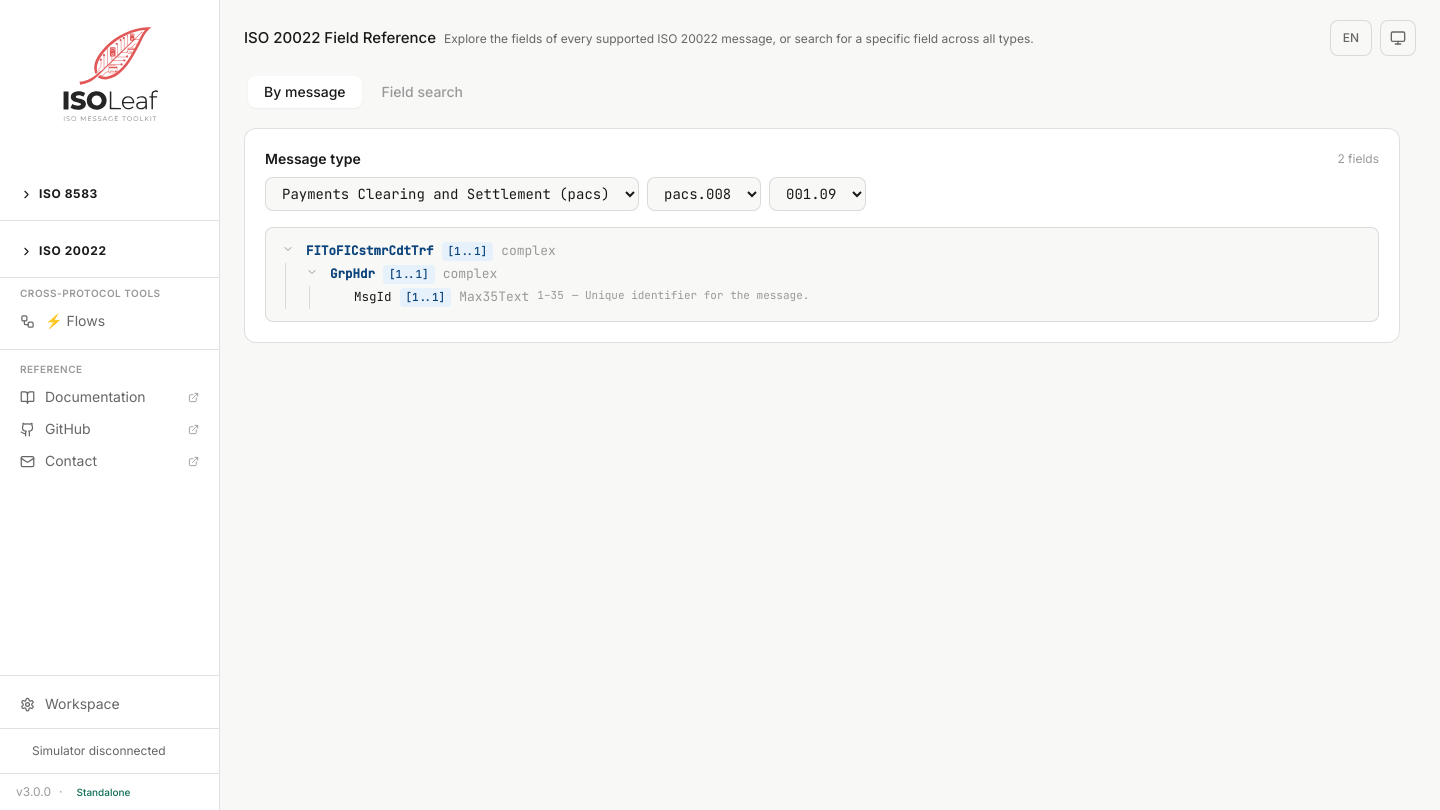
it: Iso20022ReferencePage › Search button is disabled until the user types 2+ characters
Click the button with test id "tab-search" at (422, 92), box left=366, top=76, right=479, bottom=108
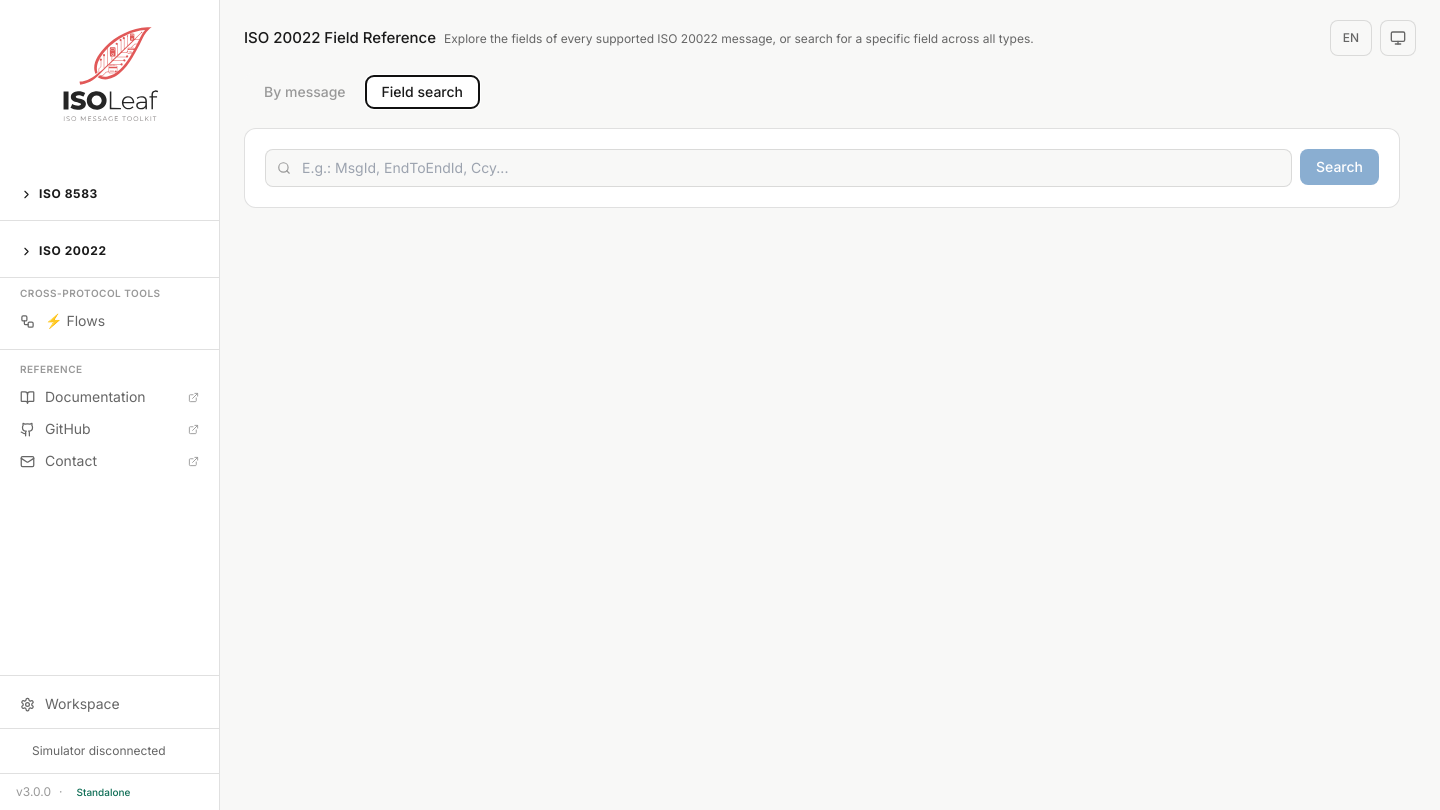
Check: the button with test id "iso20022-reference-search-button" is disabled, box left=1300, top=149, right=1379, bottom=185
Type "M" into the field with test id "iso20022-reference-search-input" at (778, 168), box left=265, top=149, right=1292, bottom=187
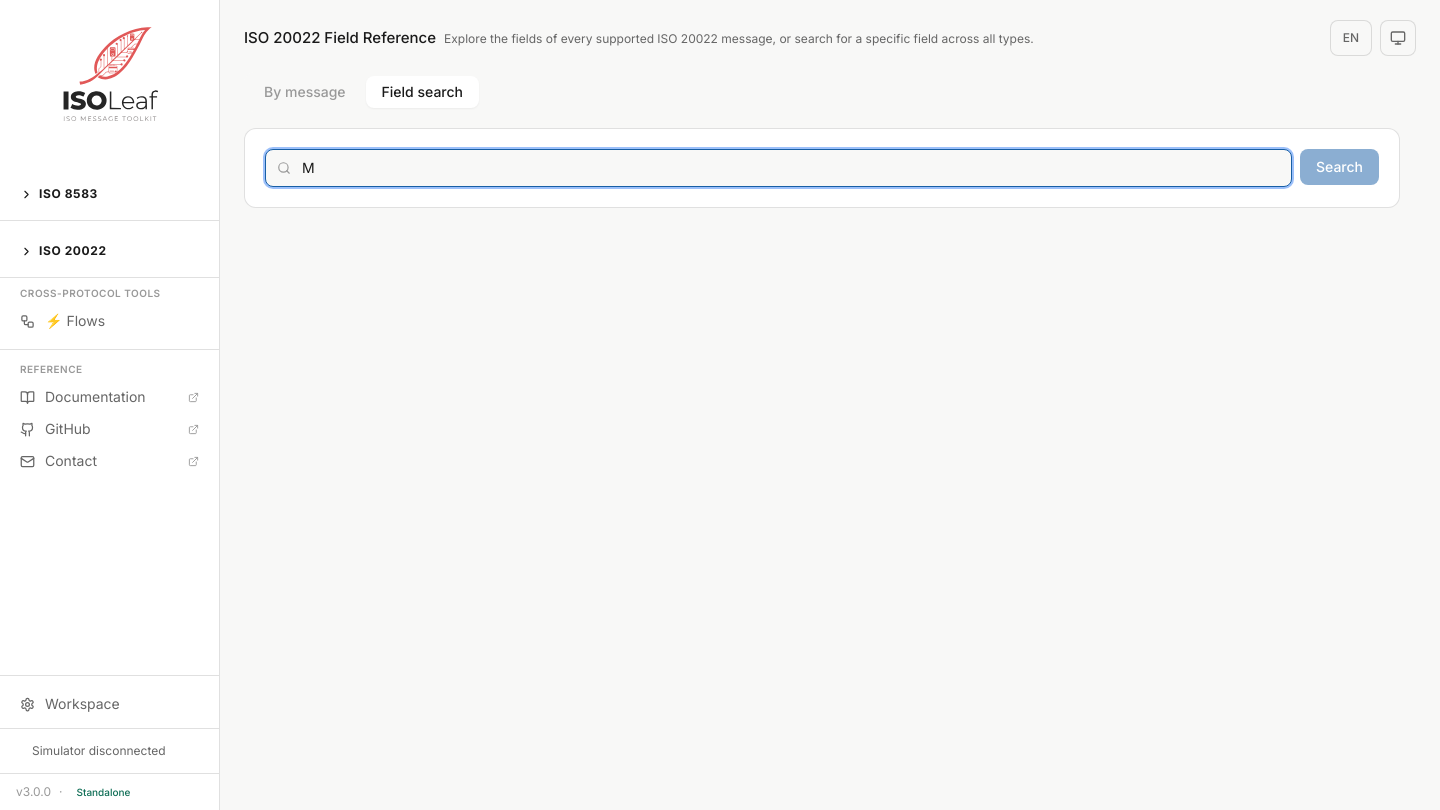
Check: the button with test id "iso20022-reference-search-button" is disabled, box left=1300, top=149, right=1379, bottom=185
Type "s" into the field with test id "iso20022-reference-search-input" at (778, 168), box left=265, top=149, right=1292, bottom=187
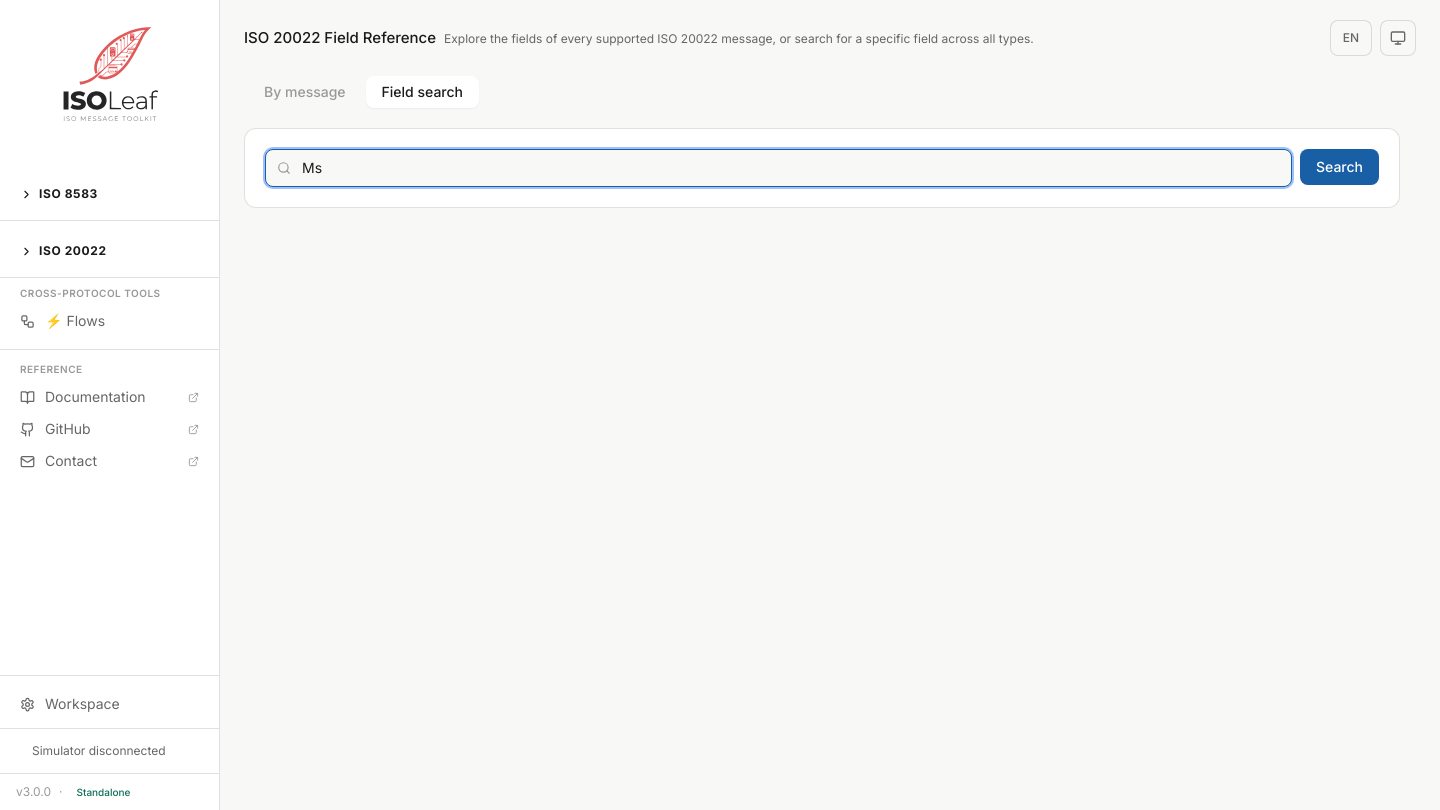
Check: the button with test id "iso20022-reference-search-button" is enabled, box left=1300, top=149, right=1379, bottom=185
